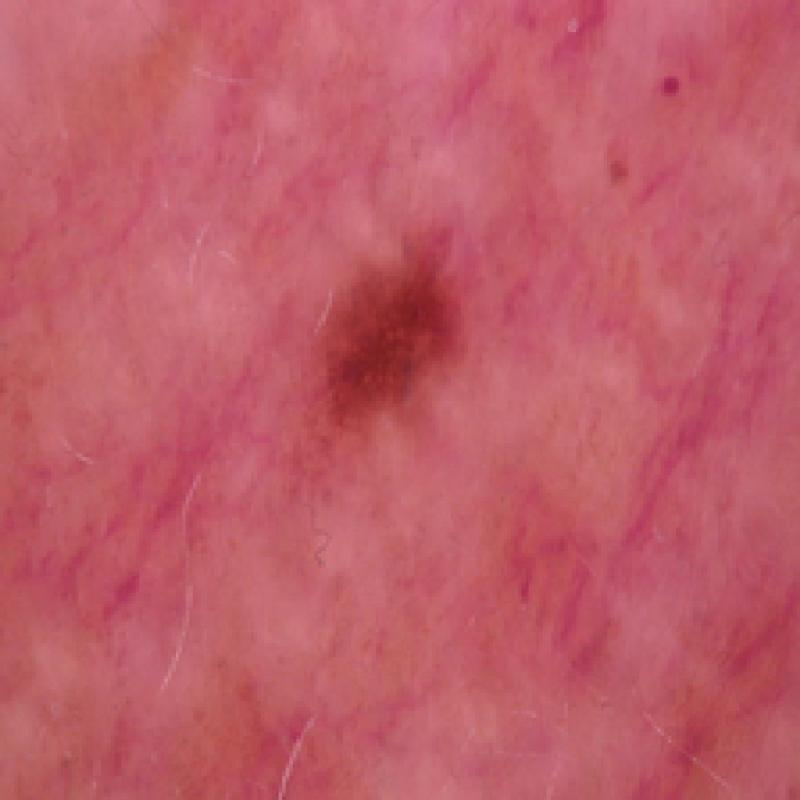benign: (272, 190, 560, 491)
